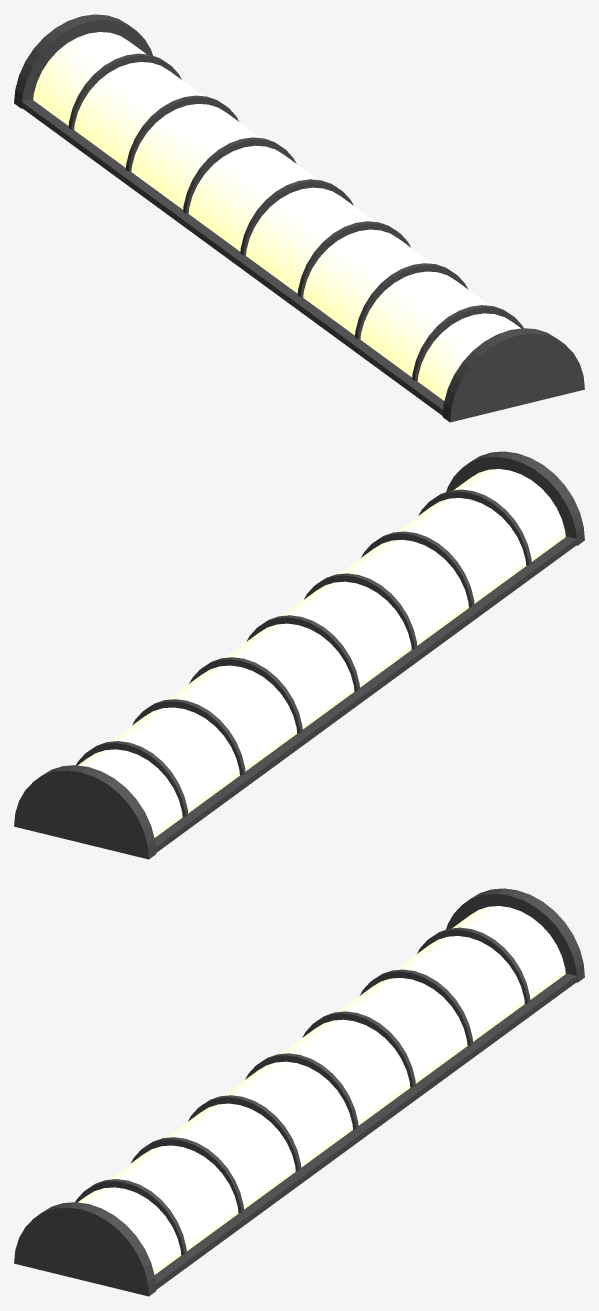
The model's file is lamp.glb.
3 views of the same model, one above another, from view 1: azimuth 30°, elevation 25°; view 2: azimuth 150°, elevation 25°; view 3: azimuth 330°, elevation 25° (orthographic).
Visible parts, largest first — view 1: Cylinder, Cube.002, Cylinder.001, Cylinder.002; view 2: Cylinder, Cube.002, Cylinder.002, Cylinder.001; view 3: Cylinder, Cube.002, Cylinder.001, Cylinder.002.
Part boxes in pixels (<box>): Cylinder: <box>33,32,520,400</box>; Cube.002: <box>22,53,523,415</box>; Cylinder.001: <box>442,328,584,422</box>; Cylinder.002: <box>14,14,152,108</box>; Cylinder: <box>78,469,565,837</box>; Cube.002: <box>76,489,576,852</box>; Cylinder.002: <box>14,765,156,859</box>; Cylinder.001: <box>446,451,584,545</box>; Cylinder: <box>78,906,565,1274</box>; Cube.002: <box>75,927,576,1289</box>; Cylinder.001: <box>14,1202,156,1296</box>; Cylinder.002: <box>446,888,584,982</box>.
Bounding box in the file's own units: 2.4 × 1.2 × 13.43.
